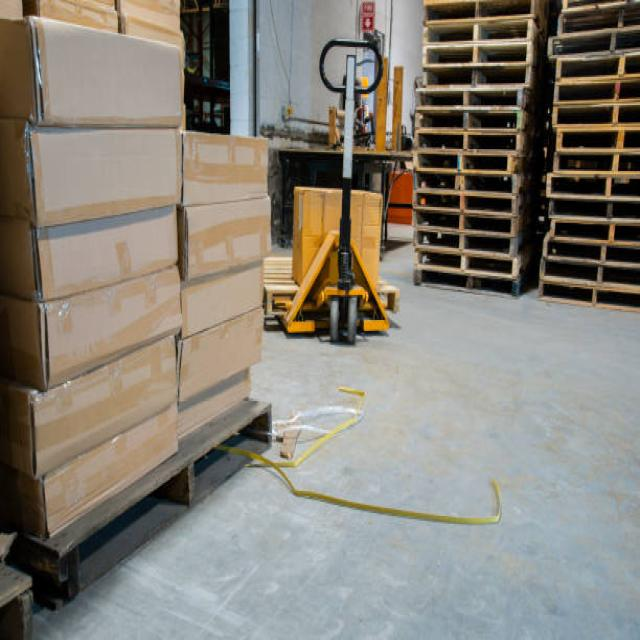Wooden-Pallets: (55, 392, 274, 620), (405, 218, 520, 260), (413, 260, 524, 300), (406, 164, 521, 200), (414, 101, 524, 134), (416, 43, 534, 67), (420, 24, 534, 44)
